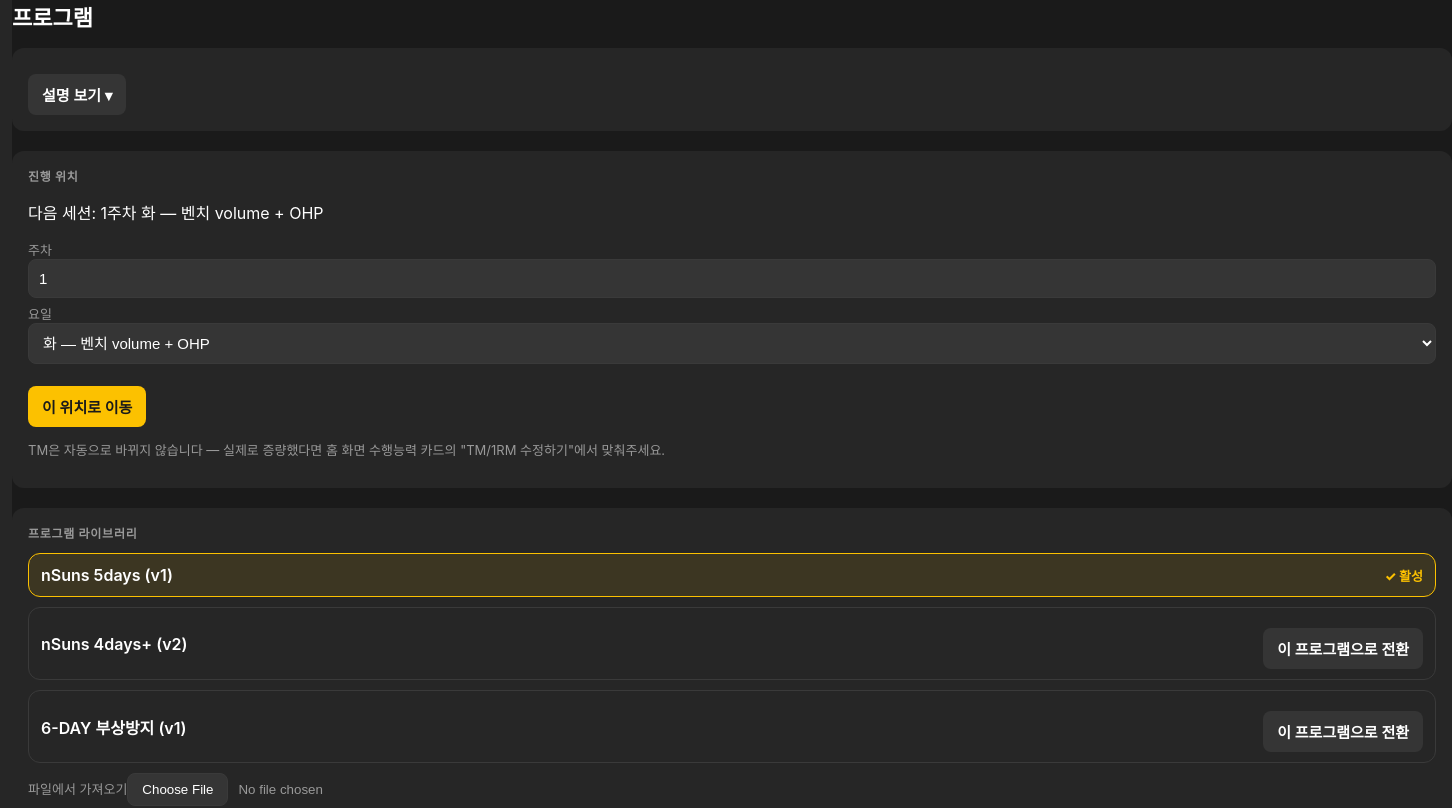
Test case: ProgramScreen › ⑧ 루틴 표 — nsuns-5day(단일 주): 주차 접미사 없이 렌더된다
Click the button "설명 보기 ▾": (77, 94) [28, 74, 126, 115]
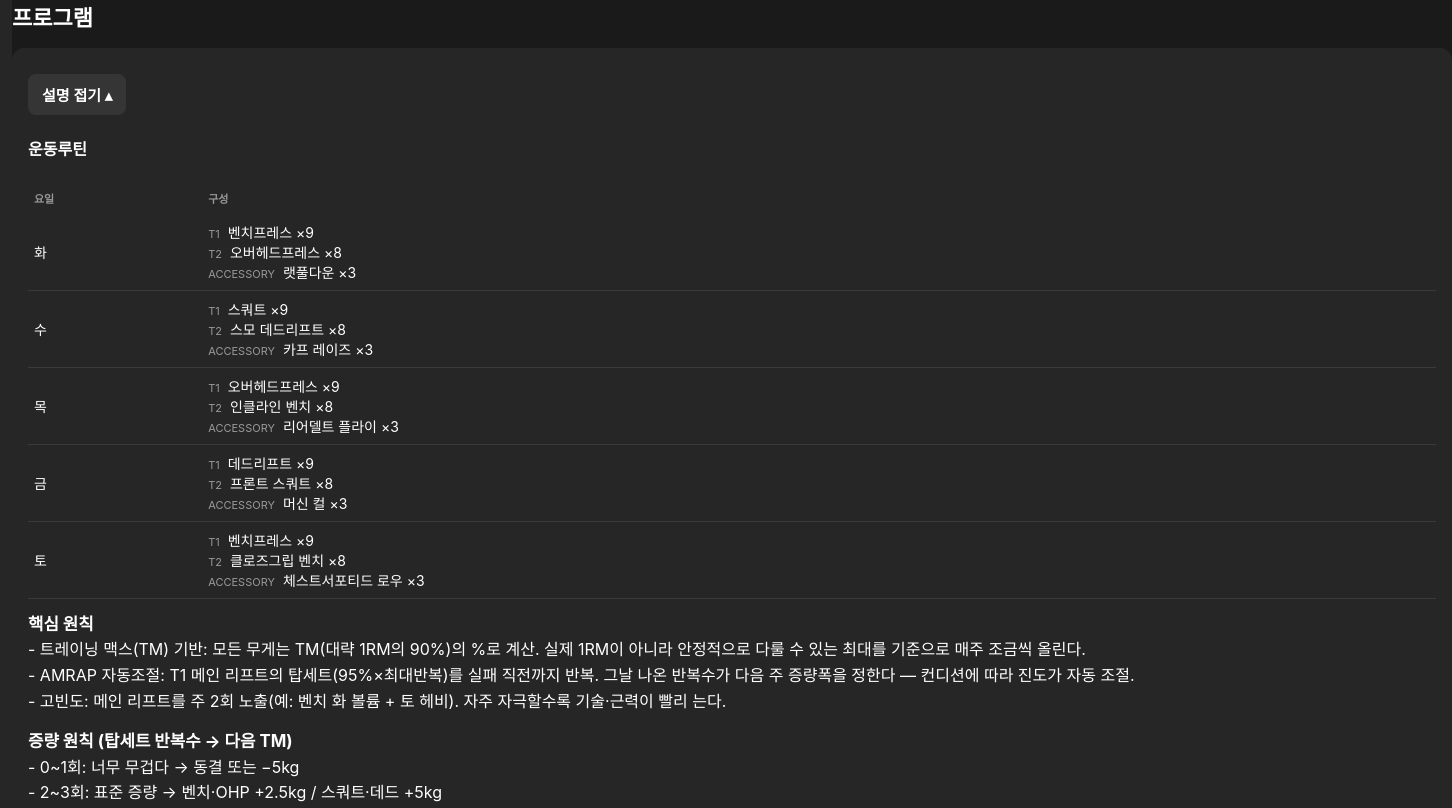
Result: the table is shown at [28, 182, 1436, 598]
